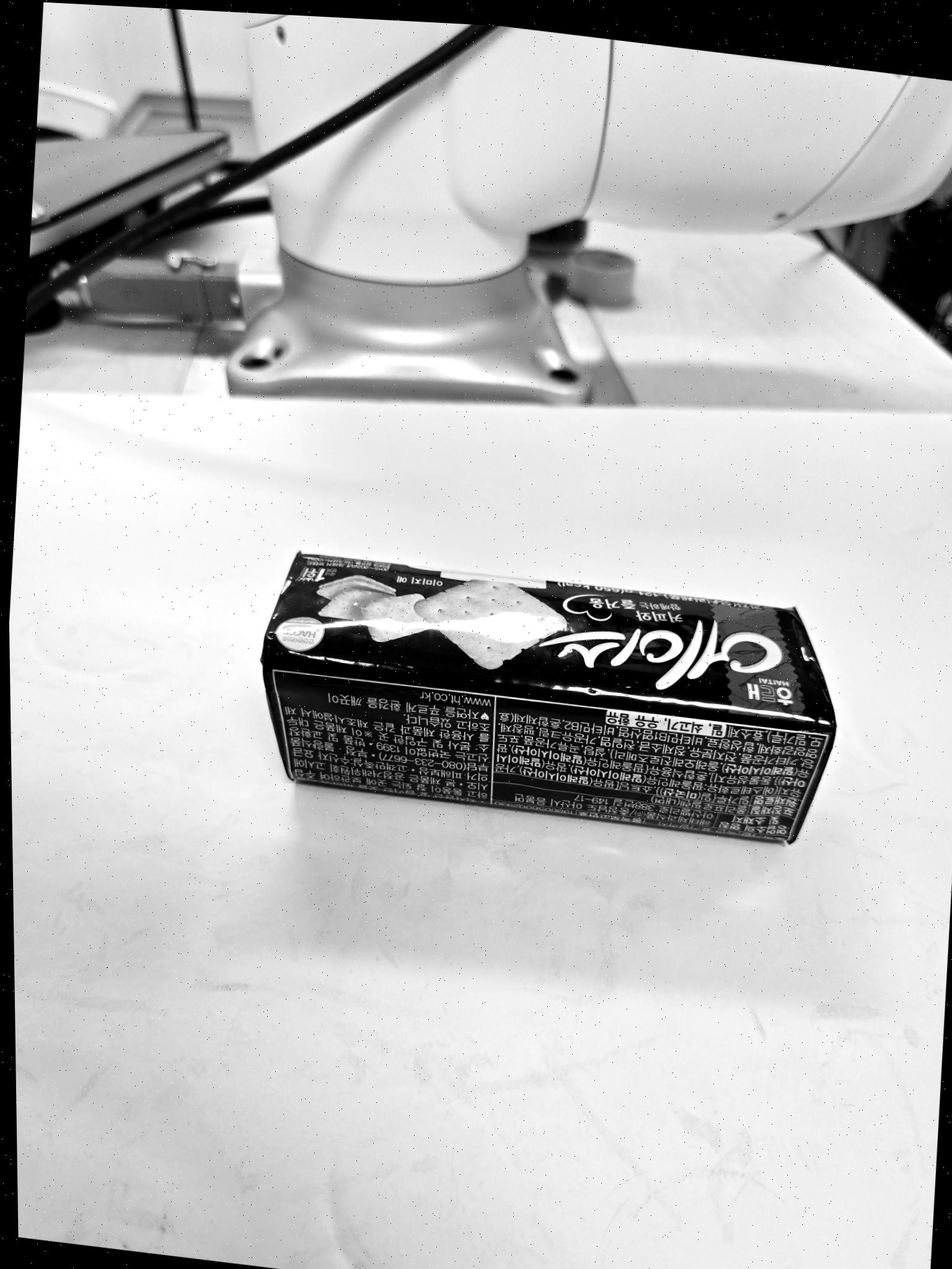cracker_ace: (256, 546, 837, 844)
